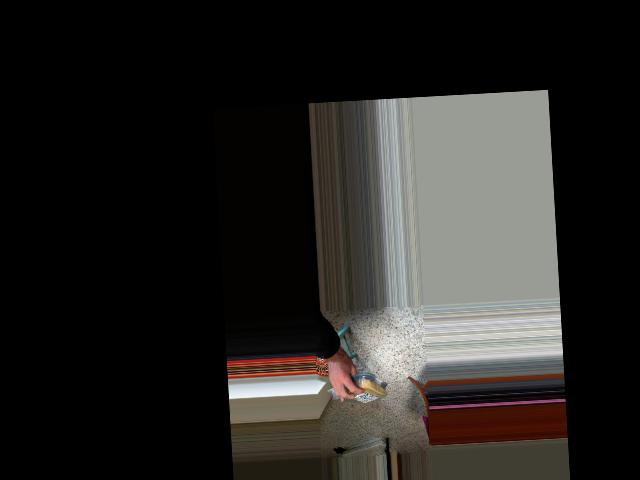cheese: (335, 375, 387, 404)
